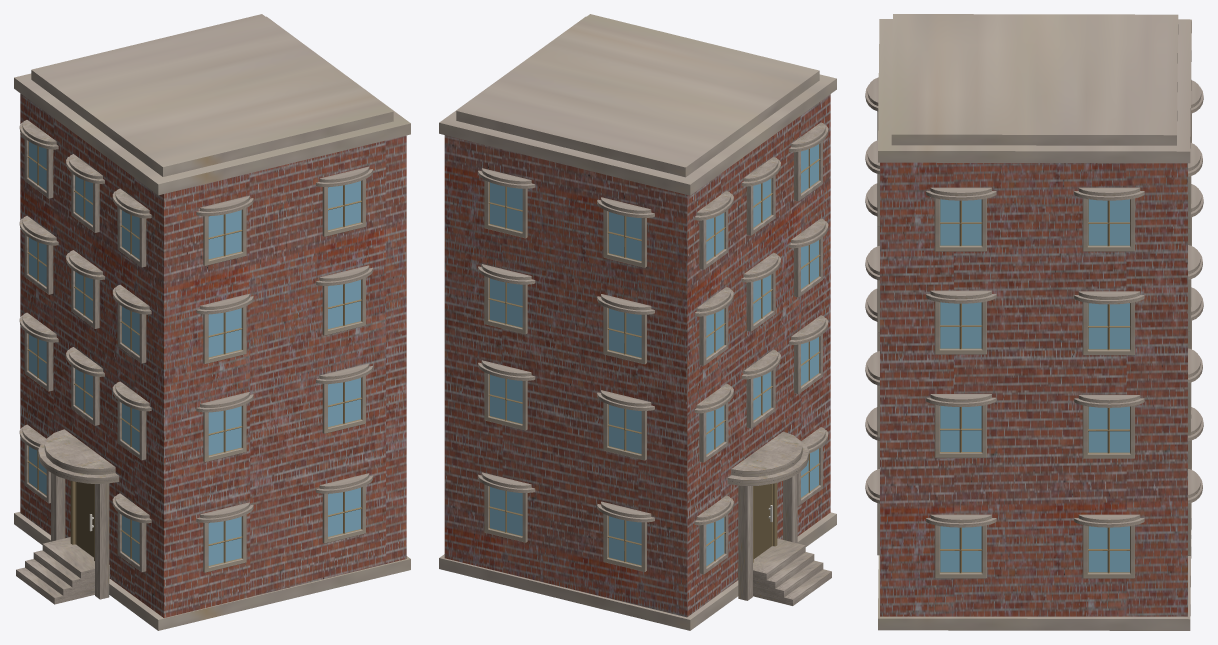
File: EdificioExtra.fbx
The picture shows the model from 3 angles, left to right: view 1: azimuth 30°, elevation 25°; view 2: azimuth 150°, elevation 25°; view 3: azimuth 270°, elevation 25°; orthographic projection. The views are drawn at different scales.
Visible parts, largest first — view 1: BaseEdificio.001, TechoYSuelo.001, VentanaSegundoPiso.005, VentanasDerecha.001, Puerta; view 2: BaseEdificio.001, TechoYSuelo.001, VentanaSegundoPiso.005, VentanasIzquierda.002, Puerta; view 3: BaseEdificio.001, TechoYSuelo.001, VentanasIzquierda.003, VentanasIzquierda.002, VentanasDerecha.001.
Part boxes in pixels (<box>): BaseEdificio.001: <box>20,93,406,617</box>; TechoYSuelo.001: <box>14,14,410,630</box>; VentanaSegundoPiso.005: <box>16,120,151,604</box>; VentanasDerecha.001: <box>196,166,372,572</box>; Puerta: <box>70,481,94,560</box>; BaseEdificio.001: <box>444,94,830,617</box>; TechoYSuelo.001: <box>439,14,836,630</box>; VentanaSegundoPiso.005: <box>694,122,831,605</box>; VentanasIzquierda.002: <box>478,168,654,571</box>; Puerta: <box>753,482,777,562</box>; BaseEdificio.001: <box>880,162,1187,616</box>; TechoYSuelo.001: <box>878,14,1191,630</box>; VentanasIzquierda.003: <box>926,187,1144,578</box>; VentanasIzquierda.002: <box>1188,80,1203,555</box>; VentanasDerecha.001: <box>865,77,879,555</box>.
Bounding box in the file's own units: 615 × 870 × 542.
